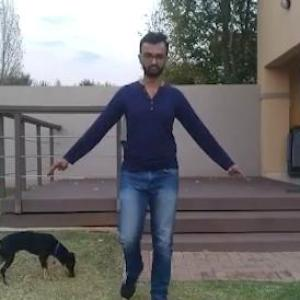land: (70, 46, 232, 299)
